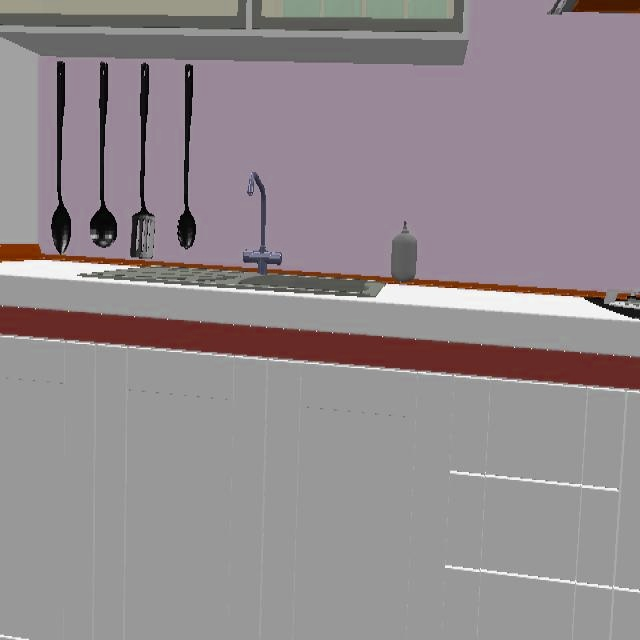cabinet: (0, 336, 640, 638)
countertop: (0, 260, 640, 388)
sink: (104, 172, 382, 296)
